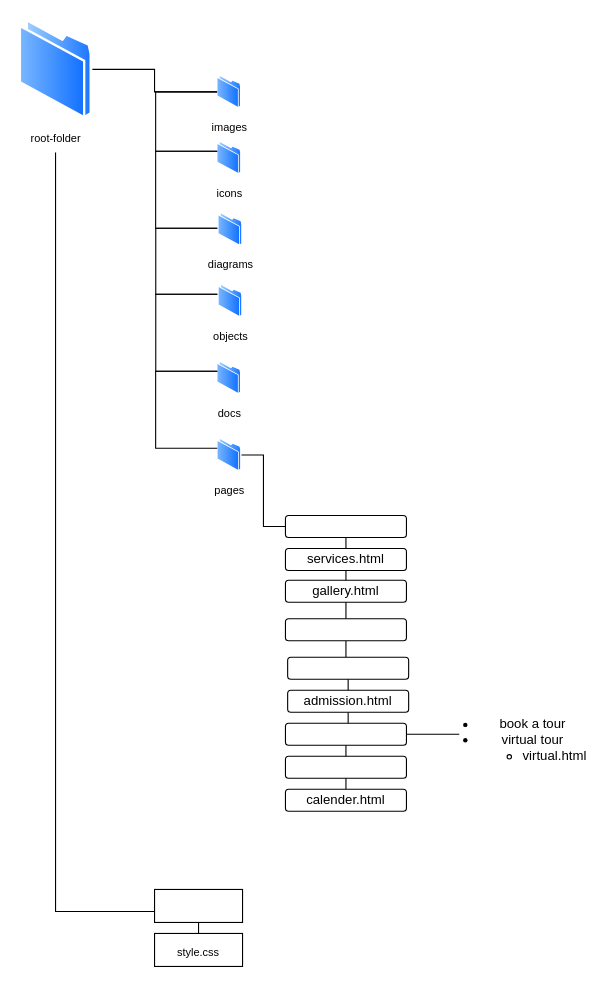
Some shapes in this 605 by 986 pixel diagram are drawn without their labels. The shapes that lost their labels are listed below. From the top down, each one's centre as x and y in pixels, then its label:
At point 345,525: "about.html".
At point 345,629: "contact.html".
At point 348,667: "fees.html".
At point 345,733: "bookings.html".
At point 345,766: "facilities.html".
At point 198,905: "index.html".
